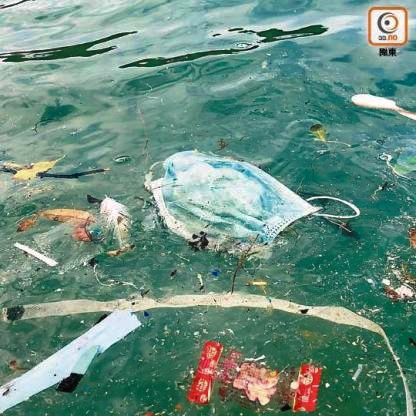Mask: (138, 148, 364, 262)
